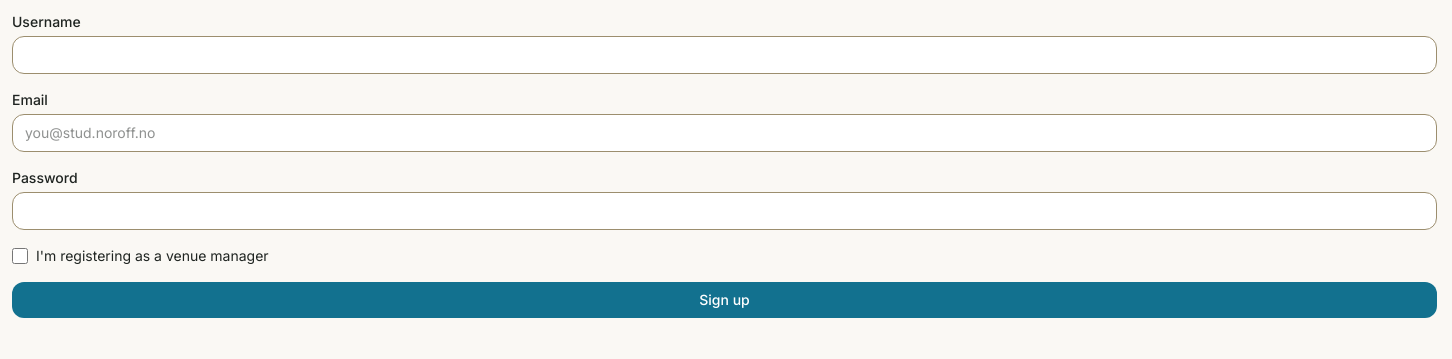
RegisterForm › rejects a name containing punctuation
Type "jane doe!" into the field labelled "Username" at coordinates (724, 55), box [12,36,1437,74]
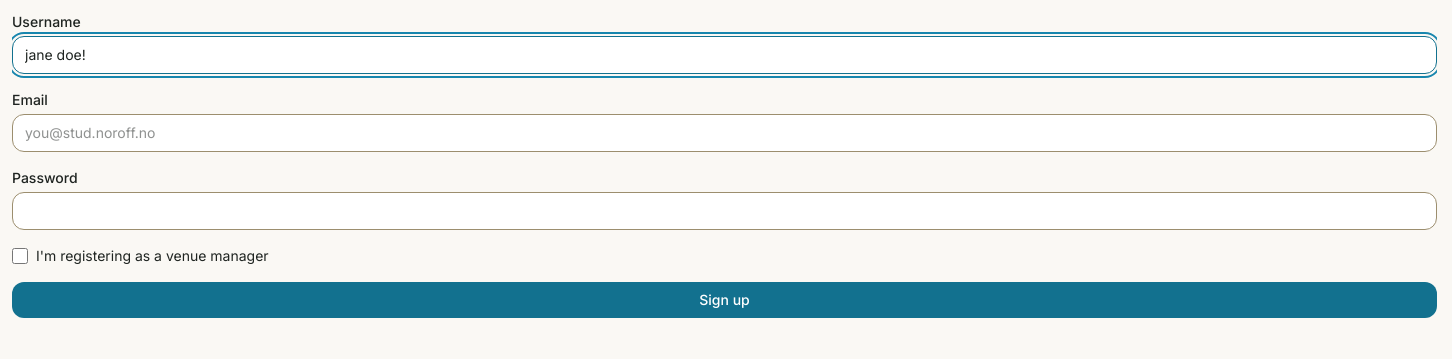
Type "jane@stud.noroff.no" into the field labelled "Email" at coordinates (724, 133), box [12,114,1437,152]
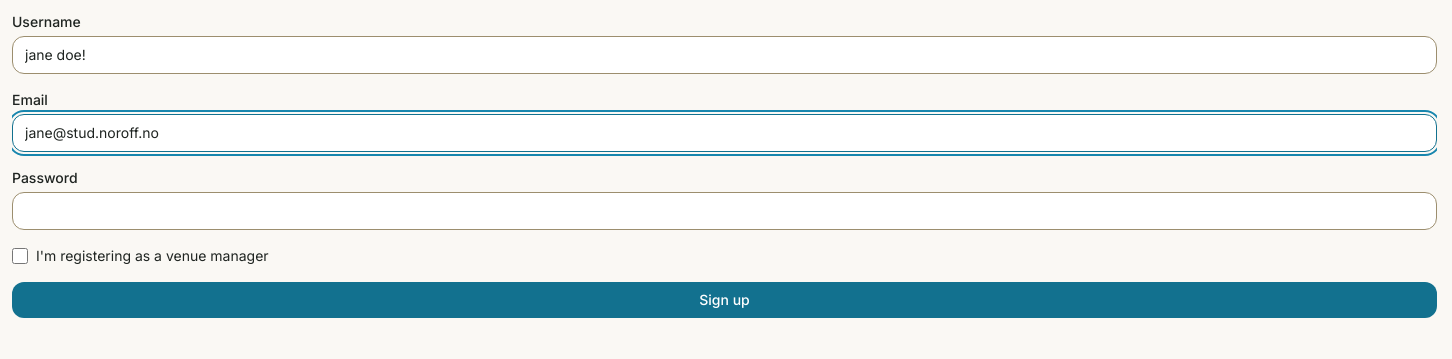
Type "password123" into the password field labelled "Password" at coordinates (724, 211), box [12,192,1437,230]
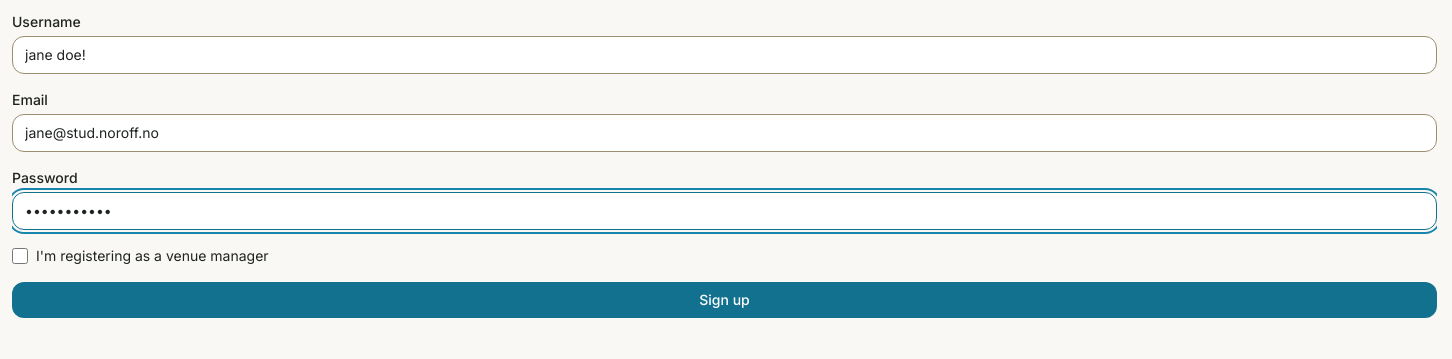
Click the button "Sign up" at coordinates (724, 300), box [12,282,1437,318]
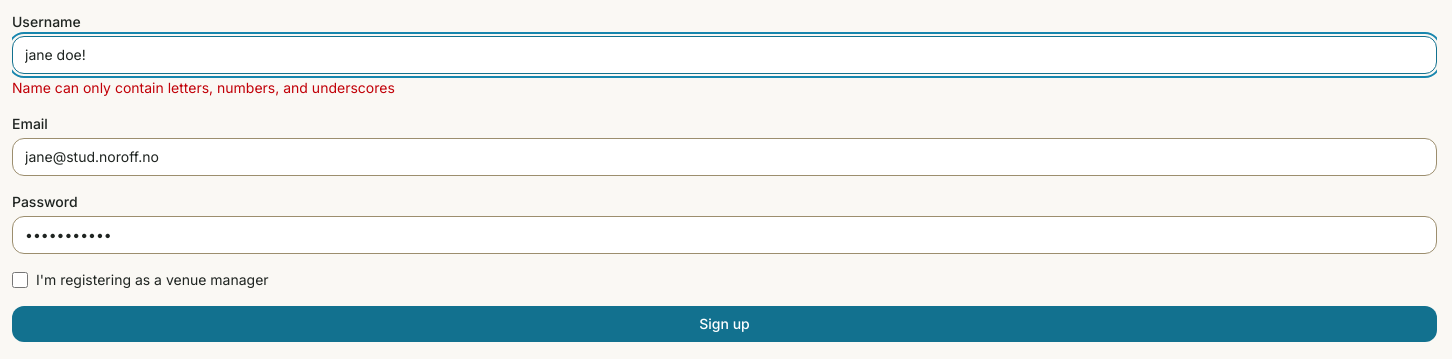
Expected: the text "Name can only contain letters, numbers, and underscores" is shown, [12,79,395,96]
